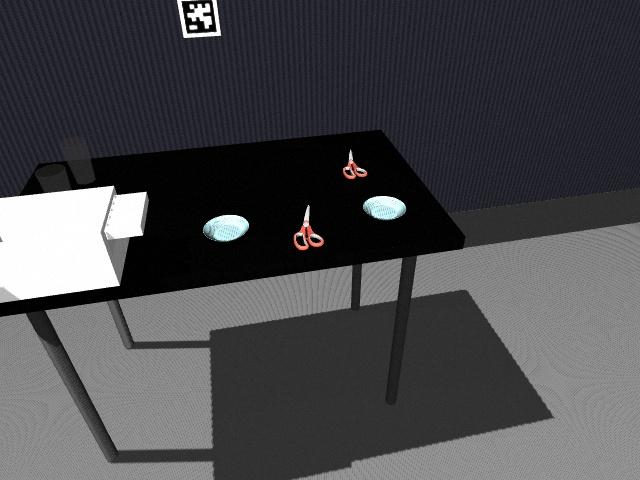cup: (60, 137, 96, 186), (35, 163, 71, 193)
plate: (202, 215, 250, 243), (361, 195, 408, 221)
scissors: (292, 203, 324, 251), (342, 147, 368, 179)
